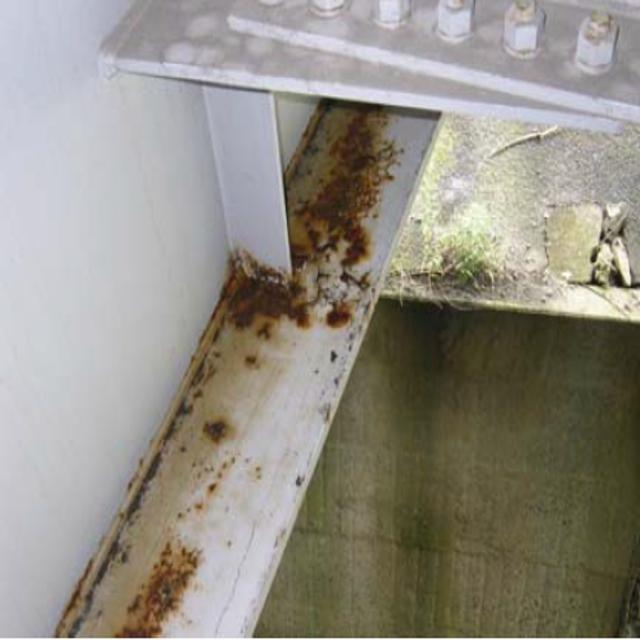corrosion: (43, 343, 286, 640), (195, 101, 422, 316)
